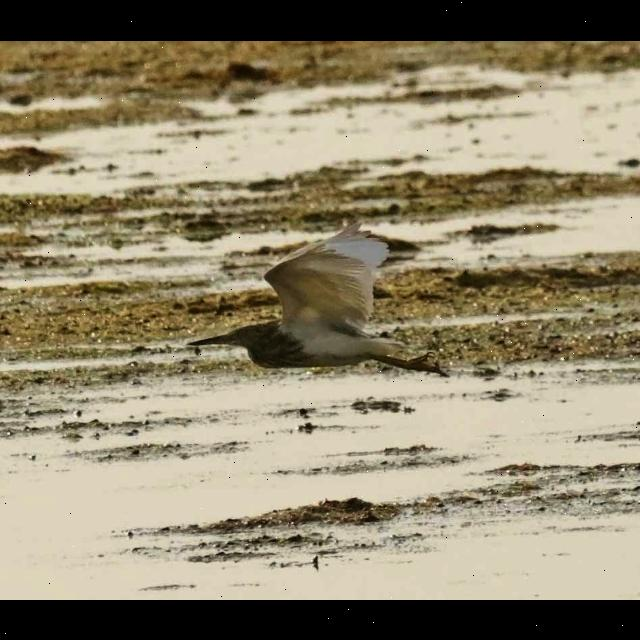heron: (187, 220, 458, 394)
